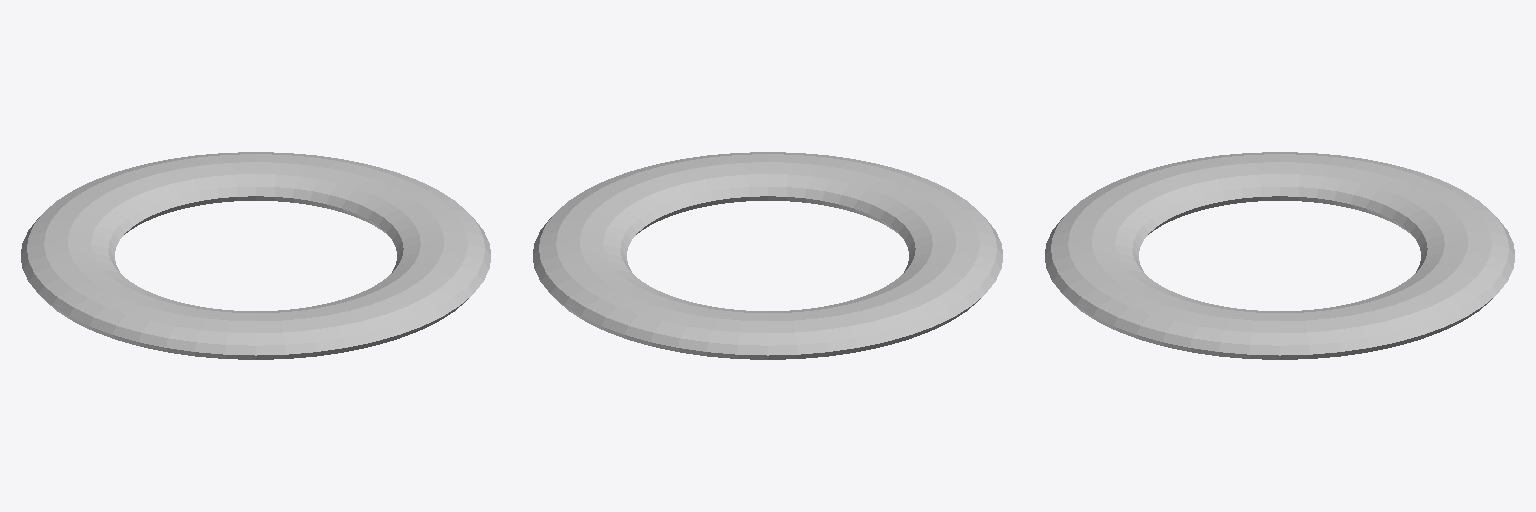
The model's file is adaptador1_rosca.obj.
3 views of the same model, side by side, from view 1: azimuth 30°, elevation 25°; view 2: azimuth 150°, elevation 25°; view 3: azimuth 270°, elevation 25° (orthographic).
Parts seen in each view (by area): view 1: Torus.000_Torus.003; view 2: Torus.000_Torus.003; view 3: Torus.000_Torus.003.
Boxes of the visible parts, x1,y1,x2,y2 form: Torus.000_Torus.003: [21, 152, 490, 359]; Torus.000_Torus.003: [533, 152, 1002, 359]; Torus.000_Torus.003: [1045, 152, 1514, 359].
Size of the model in its own units: 0.4701 by 0.0315 by 0.4701.